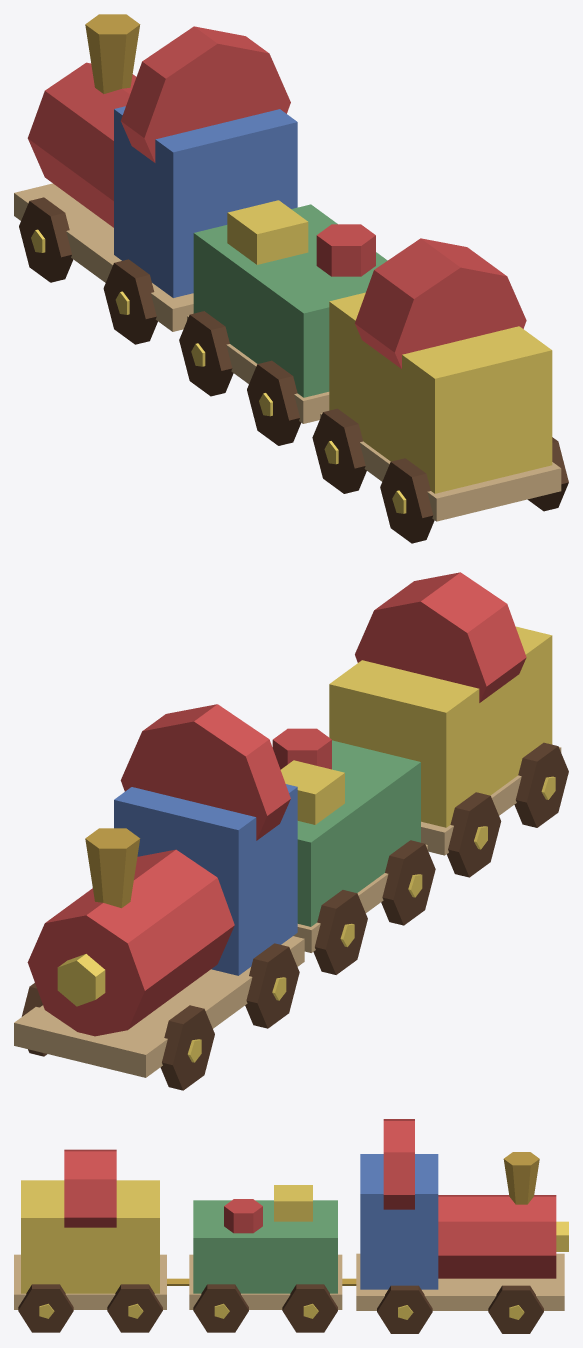
File: tren_juguete.glb
3 renders of one model, top to bottom at view 1: azimuth 30°, elevation 25°; view 2: azimuth 150°, elevation 25°; view 3: azimuth 270°, elevation 25°, orthographic. The views are drawn at different scales.
Parts seen in each view (by area): view 1: tren_juguete; view 2: tren_juguete; view 3: tren_juguete.
Boxes of the visible parts, <box> form: tren_juguete: <box>14,14,568,543</box>; tren_juguete: <box>14,572,568,1090</box>; tren_juguete: <box>14,1119,568,1333</box>.
Bounding box in the file's own units: 0.435 × 0.7466 × 1.99.
